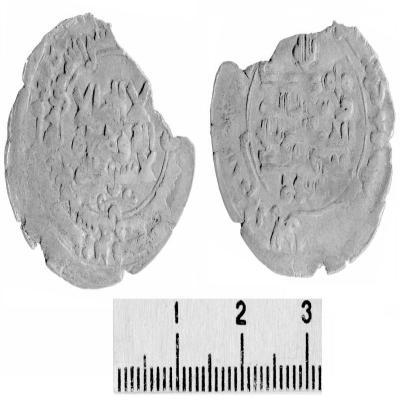numismatics: (4, 13, 196, 292), (210, 21, 396, 279)
